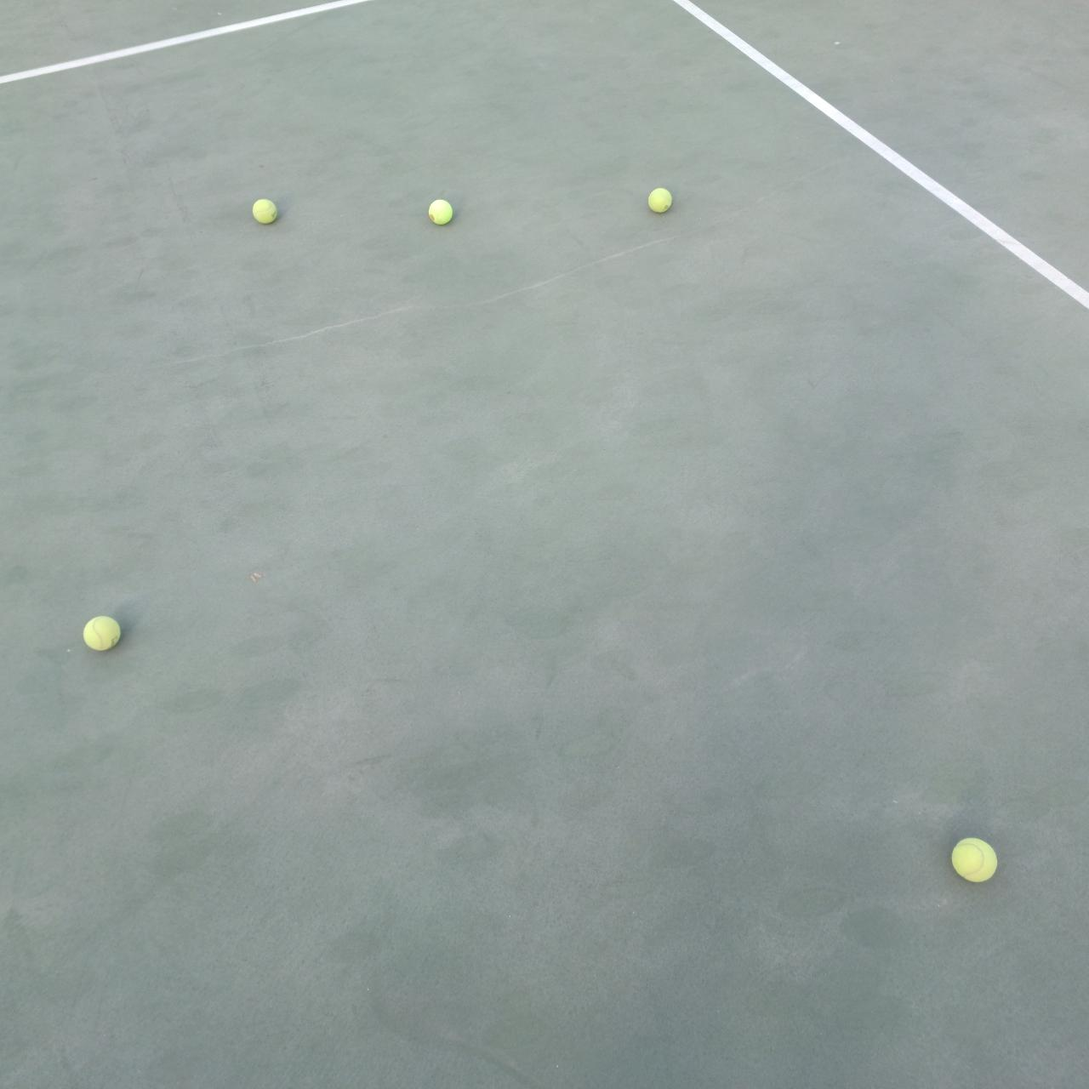tennis-ball: (949, 835, 998, 883), (81, 613, 122, 652), (426, 197, 453, 225), (250, 197, 277, 224), (647, 185, 672, 213)
